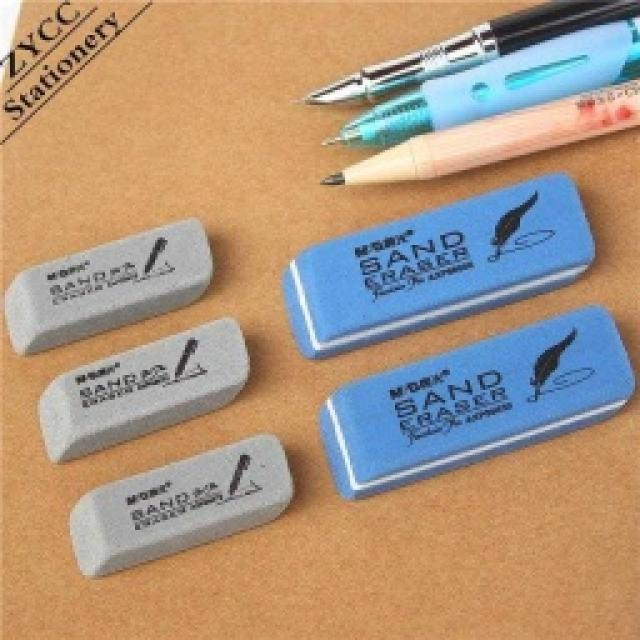Silgi: (278, 169, 597, 362), (4, 216, 215, 358)
